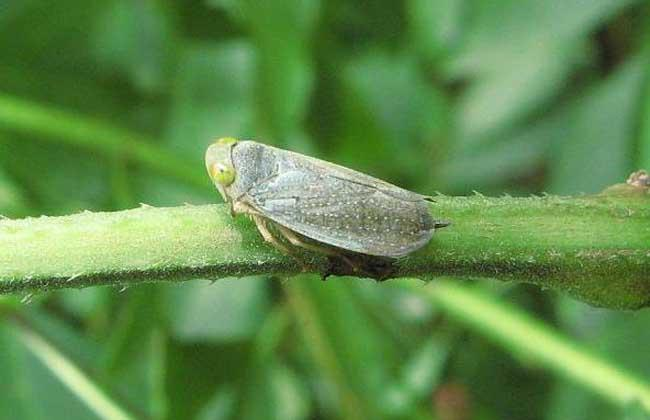Cicadellidae: (201, 136, 435, 259)
